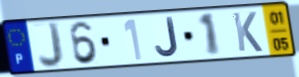1: (198, 11, 221, 58), (122, 18, 143, 61)
6: (69, 20, 99, 67)
J: (37, 20, 66, 70), (154, 16, 181, 59)
K: (231, 11, 265, 54)
